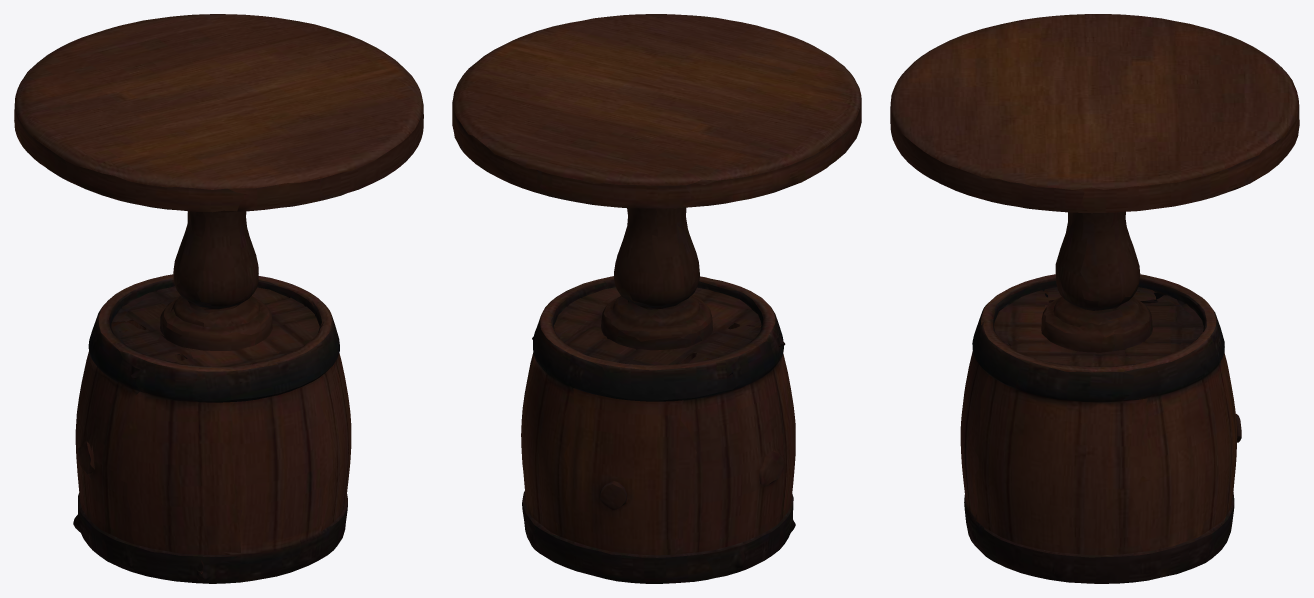
Rendered from dark-wooden-round-side-t-71f9d35b.glb.
The picture shows the model from 3 angles, left to right: view 1: azimuth 30°, elevation 25°; view 2: azimuth 150°, elevation 25°; view 3: azimuth 270°, elevation 25°; orthographic projection.
Parts seen in each view (by area): view 1: geometry_0; view 2: geometry_0; view 3: geometry_0.
Part boxes in pixels (box(x1,y1,x2,y2)): geometry_0: box(14, 14, 423, 583); geometry_0: box(452, 14, 861, 583); geometry_0: box(890, 14, 1299, 583).
Size of the model in its own units: 0.8501 by 1 by 0.8529.
1 material, 1 textured.
